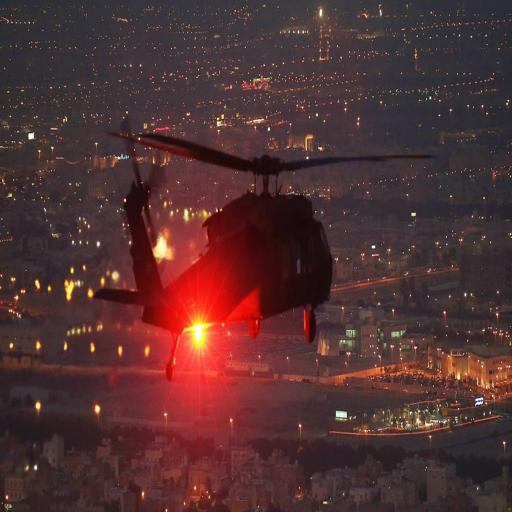helicopter: (101, 125, 440, 340)
